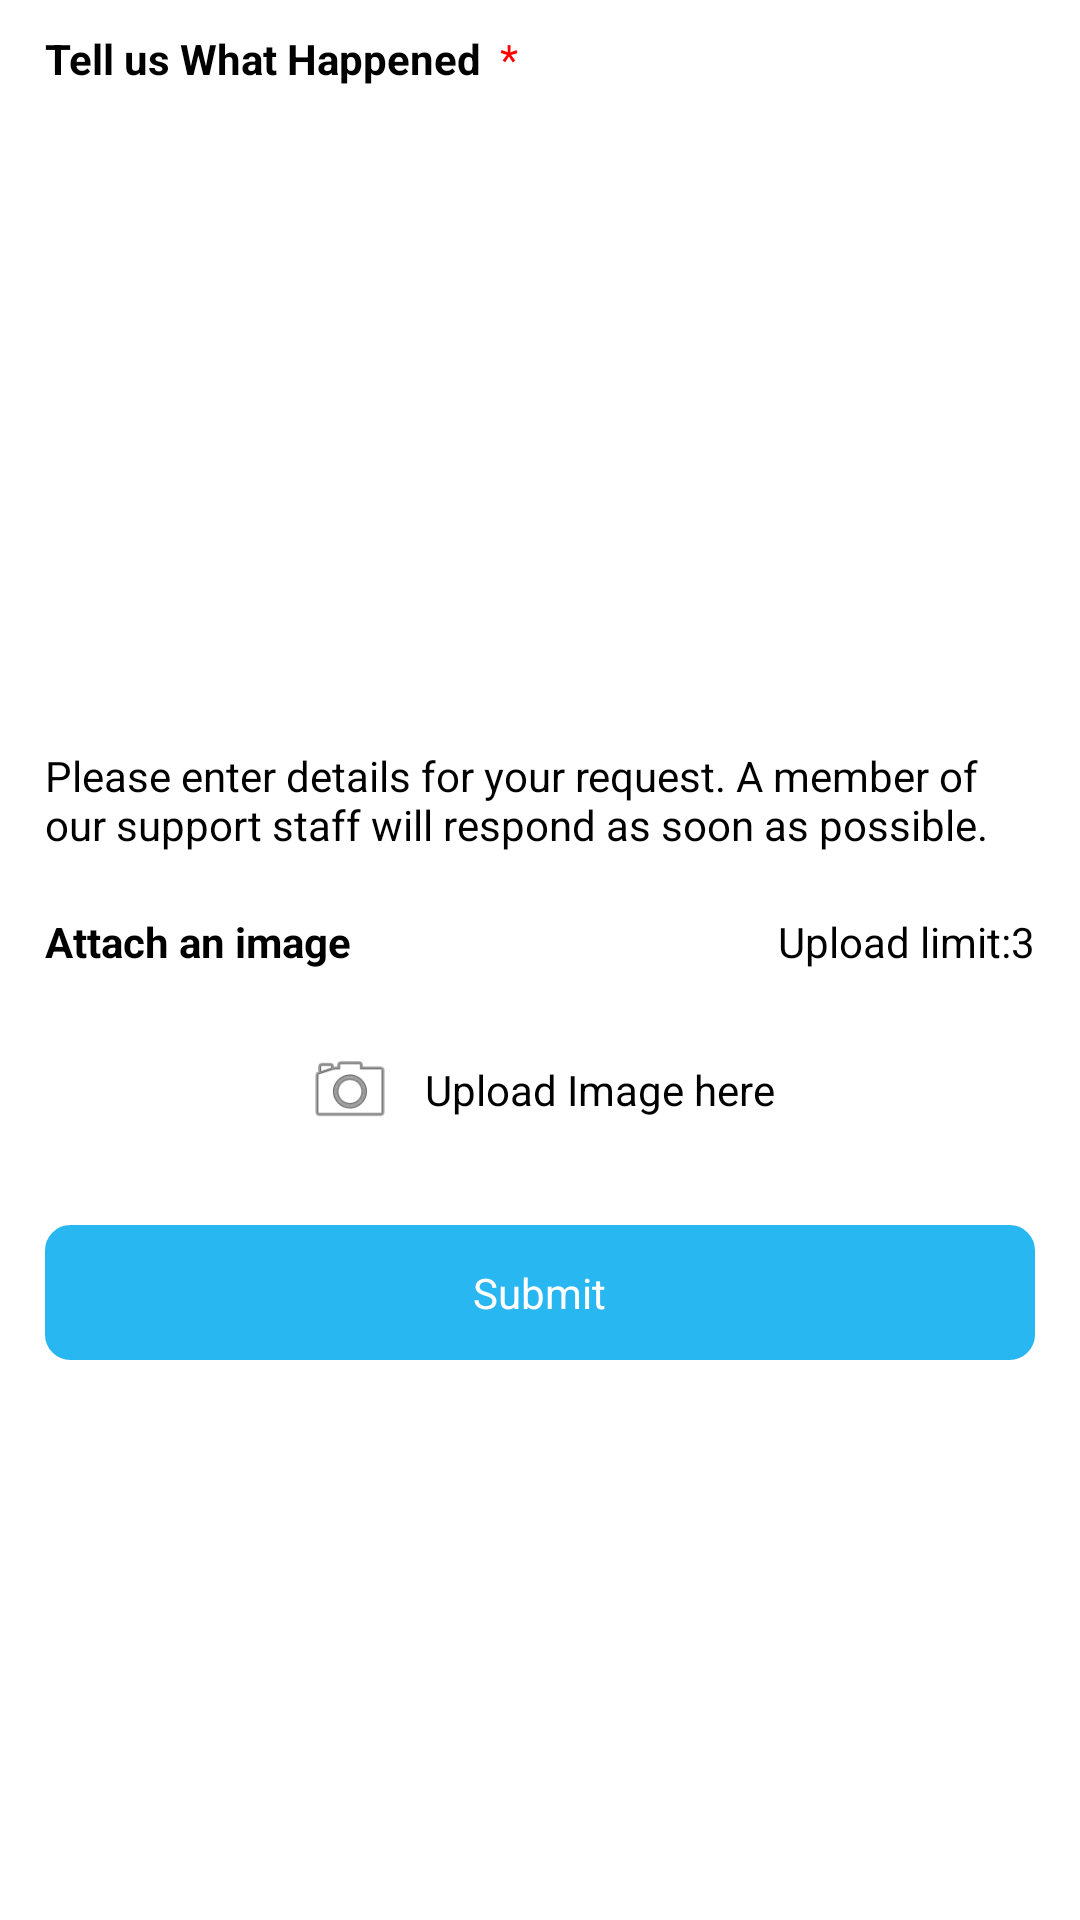

Locate icon controls on the screen. Image size 1080*1920, boxes as (x1, y1, x2, y2).
camera: (315, 1061, 385, 1116)
